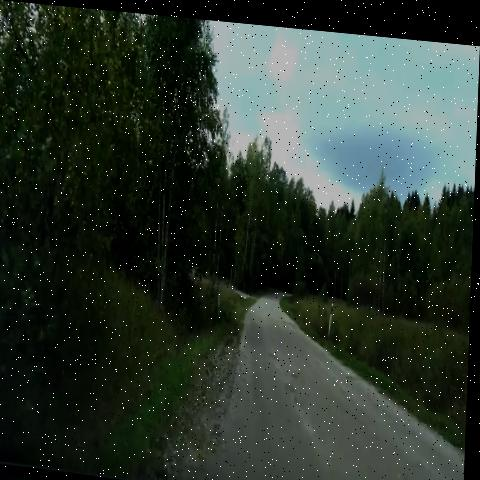pothole: (285, 357, 307, 412), (266, 338, 286, 359)
